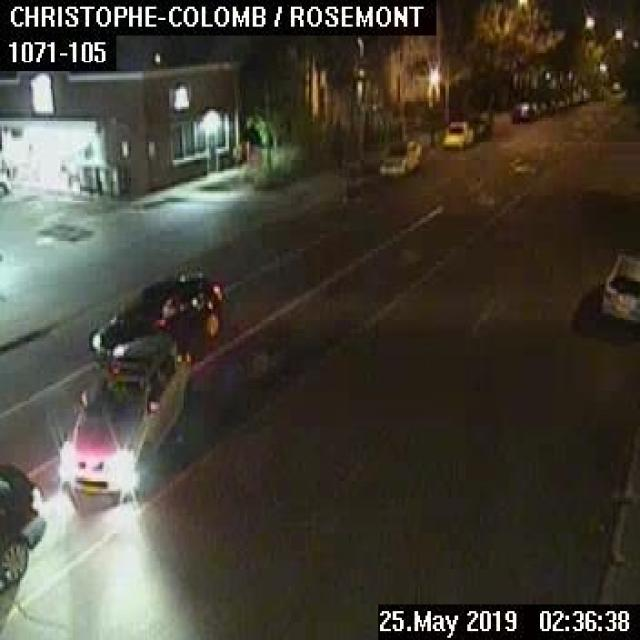vehicle: (60, 335, 189, 496), (89, 271, 220, 365), (0, 457, 45, 586), (600, 251, 638, 323), (378, 138, 420, 176), (442, 119, 472, 146), (470, 114, 490, 140)
